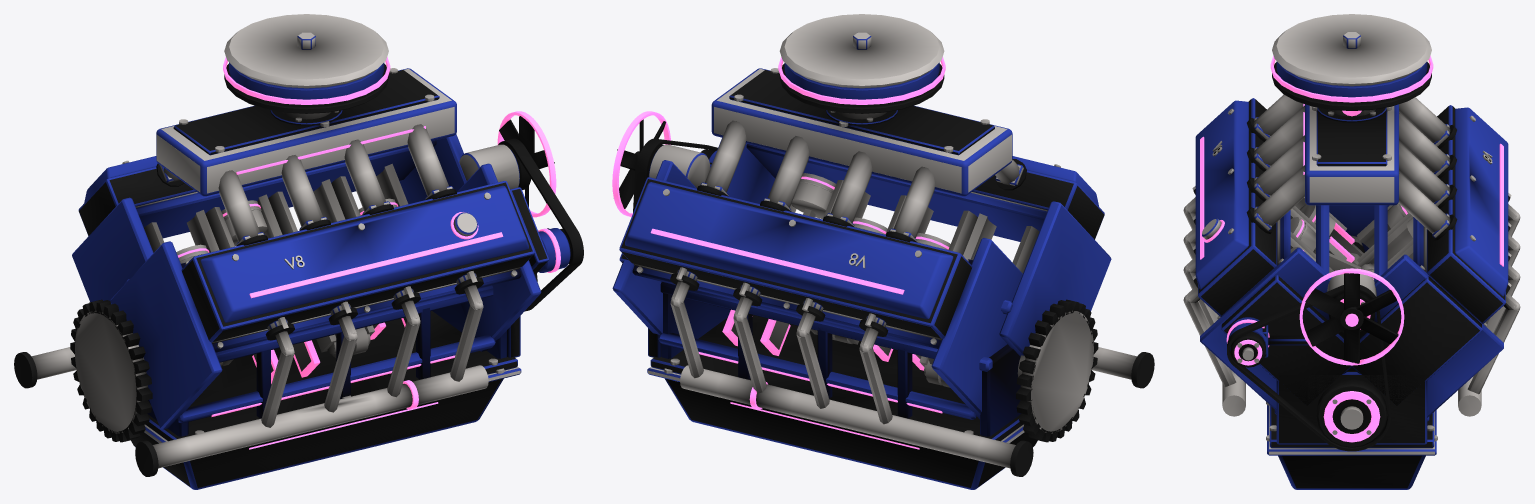
The model's file is design.glb.
3 renders of one model, left to right at view 1: azimuth 30°, elevation 25°; view 2: azimuth 150°, elevation 25°; view 3: azimuth 270°, elevation 25°, orthographic. The views are drawn at different scales.
Visible parts, largest first — view 1: design__bloque, design__multiple_admision, design__tapa_punterias_R, design__multiple_escape_R, design__filtro_aire, design__carter, design__cabeza_R, design__volante, design__tapa_frontal, design__cabeza_L, design__banda, design__ventilador (+5 smaller); view 2: design__bloque, design__multiple_admision, design__tapa_punterias_L, design__multiple_escape_L, design__filtro_aire, design__carter, design__cabeza_L, design__volante, design__cabeza_R, design__ventilador, design__tapa_frontal, design__ciguenal (+5 smaller); view 3: design__multiple_admision, design__tapa_frontal, design__bloque, design__filtro_aire, design__tapa_punterias_L, design__tapa_punterias_R, design__carter, design__ventilador, design__cabeza_R, design__cabeza_L, design__polea_ciguenal, design__multiple_escape_R (+8 smaller).
Part boxes in pixels (x1=…): design__bloque: x1=72, y1=134, x2=541, y2=441; design__multiple_admision: x1=156, y1=68, x2=456, y2=245; design__tapa_punterias_R: x1=200, y1=185, x2=528, y2=322; design__multiple_escape_R: x1=135, y1=277, x2=488, y2=476; design__filtro_aire: x1=223, y1=14, x2=390, y2=113; design__carter: x1=131, y1=366, x2=521, y2=489; design__cabeza_R: x1=181, y1=181, x2=534, y2=342; design__volante: x1=70, y1=299, x2=152, y2=442; design__tapa_frontal: x1=459, y1=144, x2=548, y2=357; design__cabeza_L: x1=78, y1=164, x2=196, y2=235; design__banda: x1=498, y1=138, x2=583, y2=311; design__ventilador: x1=497, y1=111, x2=556, y2=217; design__bloque: x1=612, y1=143, x2=1111, y2=441; design__multiple_admision: x1=697, y1=68, x2=1026, y2=242; design__tapa_punterias_L: x1=625, y1=182, x2=953, y2=319; design__multiple_escape_L: x1=670, y1=273, x2=1033, y2=476; design__filtro_aire: x1=778, y1=14, x2=945, y2=113; design__carter: x1=647, y1=366, x2=1037, y2=489; design__cabeza_L: x1=619, y1=177, x2=972, y2=338; design__volante: x1=1016, y1=299, x2=1098, y2=442; design__cabeza_R: x1=972, y1=164, x2=1104, y2=239; design__ventilador: x1=612, y1=111, x2=670, y2=216; design__tapa_frontal: x1=619, y1=137, x2=722, y2=357; design__ciguenal: x1=722, y1=309, x2=1025, y2=376; design__multiple_admision: x1=1246, y1=94, x2=1457, y2=240; design__tapa_frontal: x1=1221, y1=274, x2=1482, y2=444; design__bloque: x1=1200, y1=197, x2=1503, y2=448; design__filtro_aire: x1=1270, y1=14, x2=1433, y2=110; design__tapa_punterias_L: x1=1455, y1=107, x2=1508, y2=296; design__tapa_punterias_R: x1=1195, y1=100, x2=1248, y2=289; design__carter: x1=1266, y1=402, x2=1437, y2=489; design__ventilador: x1=1299, y1=268, x2=1404, y2=365; design__cabeza_R: x1=1192, y1=98, x2=1277, y2=316; design__cabeza_L: x1=1426, y1=105, x2=1511, y2=323; design__polea_ciguenal: x1=1316, y1=379, x2=1387, y2=447; design__multiple_escape_R: x1=1183, y1=189, x2=1245, y2=416.
Size of the model in its own units: 2.15 by 1.84 by 1.43.
